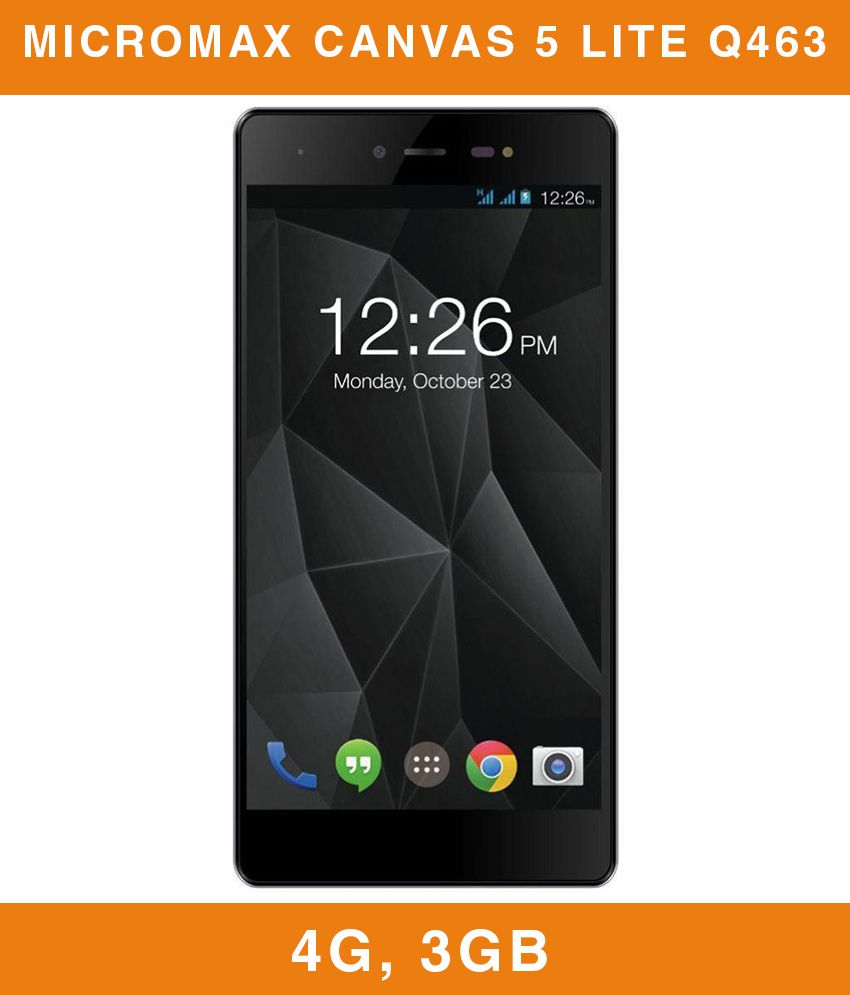mobile: (225, 104, 613, 885)
